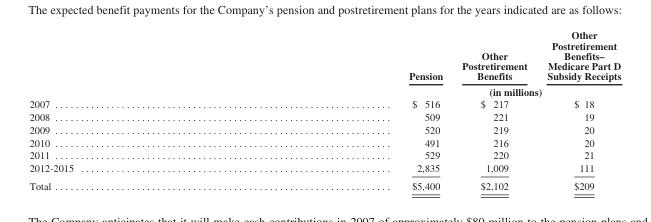table: (28, 28, 620, 191)
table column: (28, 28, 240, 191), (240, 28, 451, 191), (451, 28, 536, 191), (536, 28, 620, 191)
table column header: (28, 28, 620, 97)
table row: (28, 28, 620, 83), (28, 161, 620, 176), (28, 176, 620, 191), (28, 83, 620, 97), (28, 97, 620, 110), (28, 110, 620, 123), (28, 135, 620, 148), (28, 148, 620, 161), (28, 123, 620, 135)
table spanning cell: (240, 83, 620, 97)
